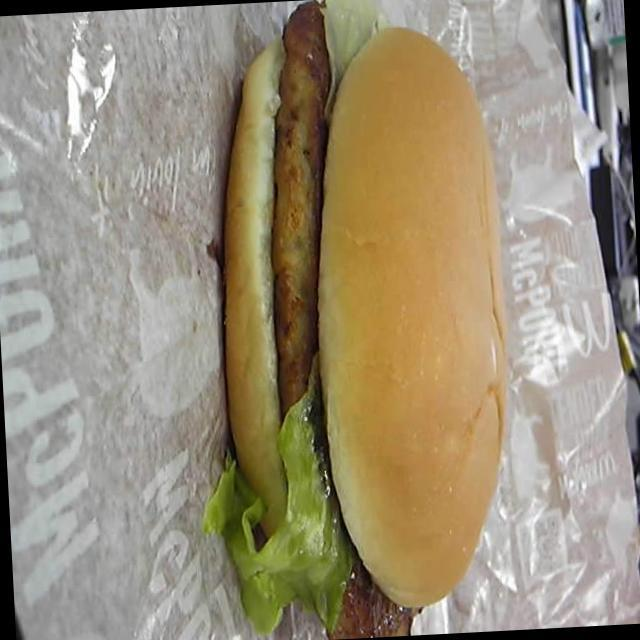Hamburger: (176, 0, 521, 640)
